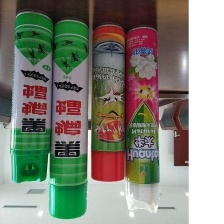aerosol_cans: (44, 15, 90, 222), (7, 6, 56, 185), (122, 23, 162, 214), (87, 21, 128, 184)
